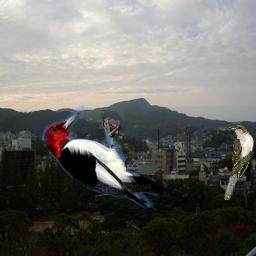Cuckoo: (224, 125, 254, 200)
Woodpecker: (29, 105, 174, 214)
